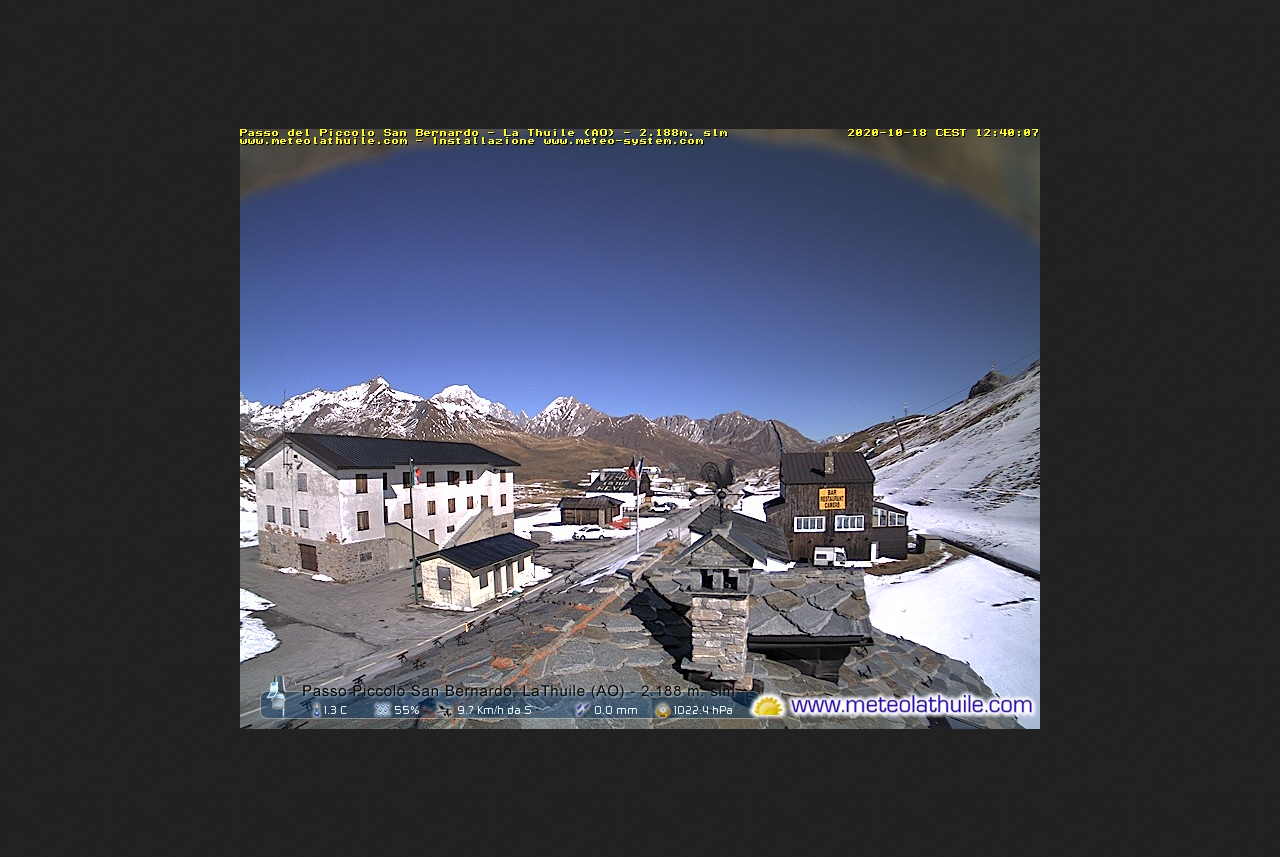no: (405, 457, 426, 491), (623, 458, 640, 488)
